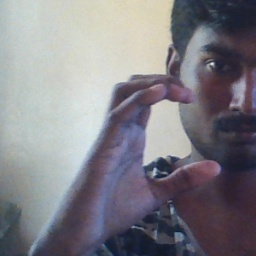C: (88, 63, 222, 204)
